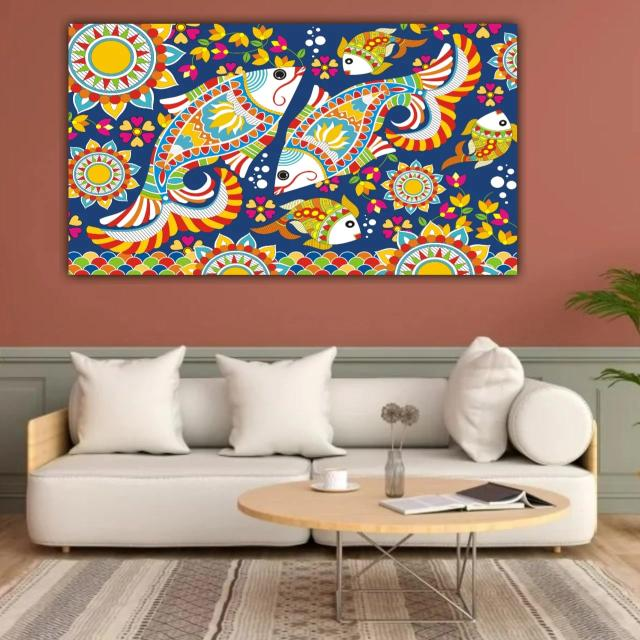painting: (68, 22, 519, 276)
